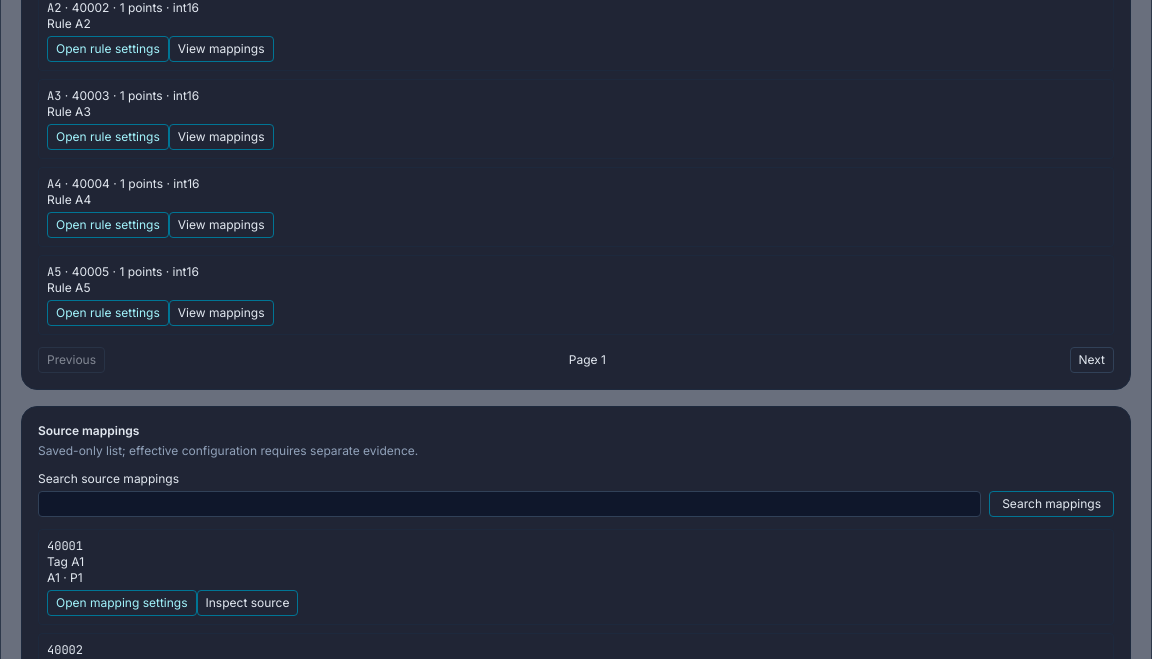
Test: bounded runtime source lists › shows stale page failure without silently restarting or loading a legacy fallback
(page scrolled)
Click the button with aria-label "Next source rules page" at {"x": 1092, "y": 360}, box top-left (1070, 347), bottom-right (1114, 373)
(page scrolled)
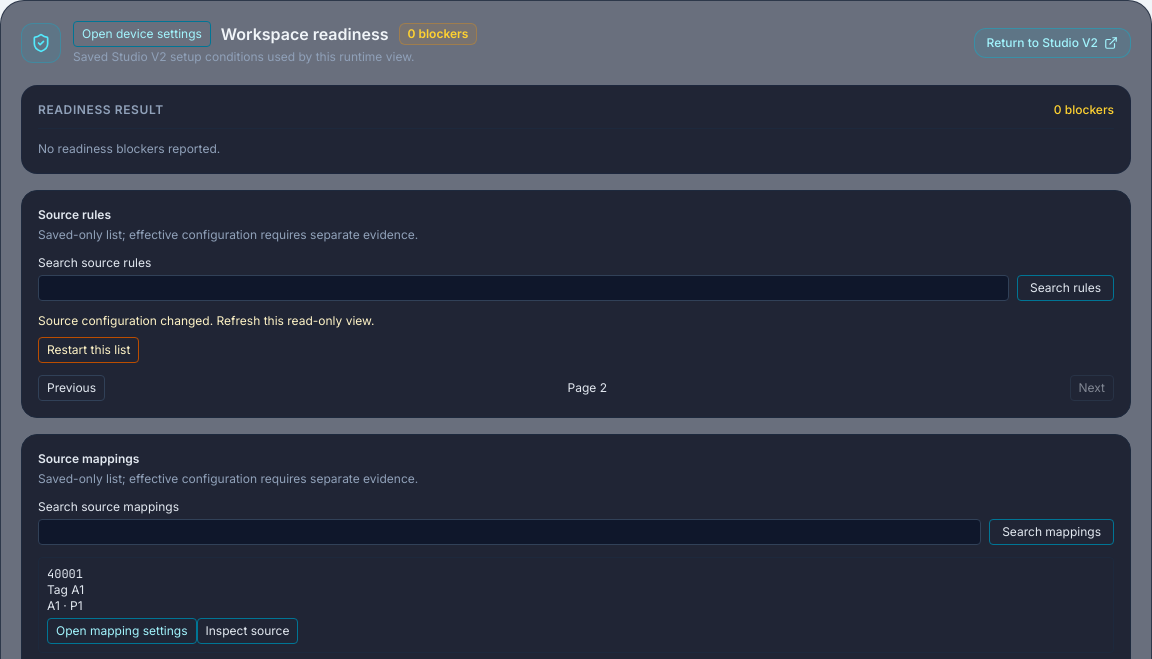
Check: the message does not show "private", box top-left (38, 313), bottom-right (374, 363)
Check: the message shows "Source configuration changed", box top-left (38, 313), bottom-right (374, 328)
Click the button "Restart this list" at {"x": 89, "y": 350}, box top-left (38, 337), bottom-right (139, 363)
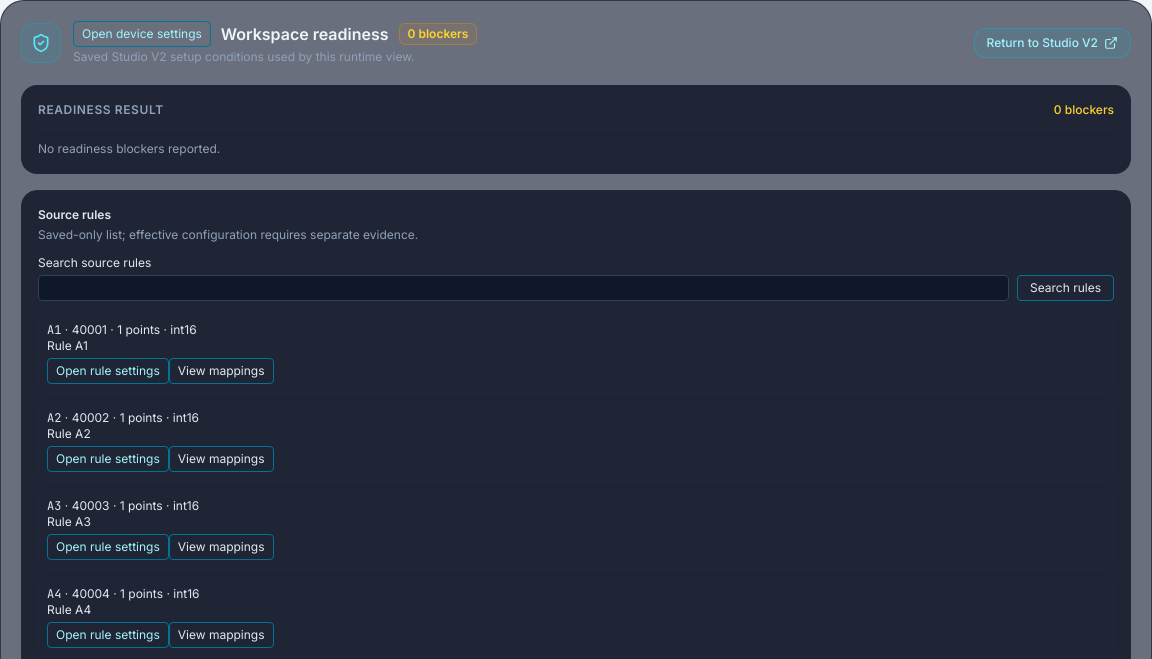
Check: the button with aria-label "Show mappings for A1" is shown, box top-left (169, 358), bottom-right (274, 384)
